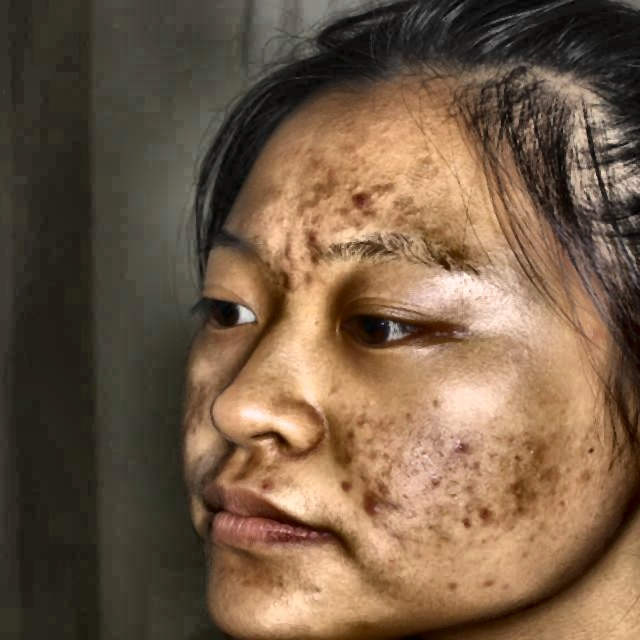pustule: (282, 264, 310, 298), (331, 470, 360, 500), (301, 140, 330, 170), (478, 498, 503, 530), (450, 434, 476, 462), (354, 186, 376, 216), (366, 496, 391, 522), (276, 238, 300, 261), (574, 318, 598, 340), (304, 225, 324, 251), (451, 508, 468, 532)
